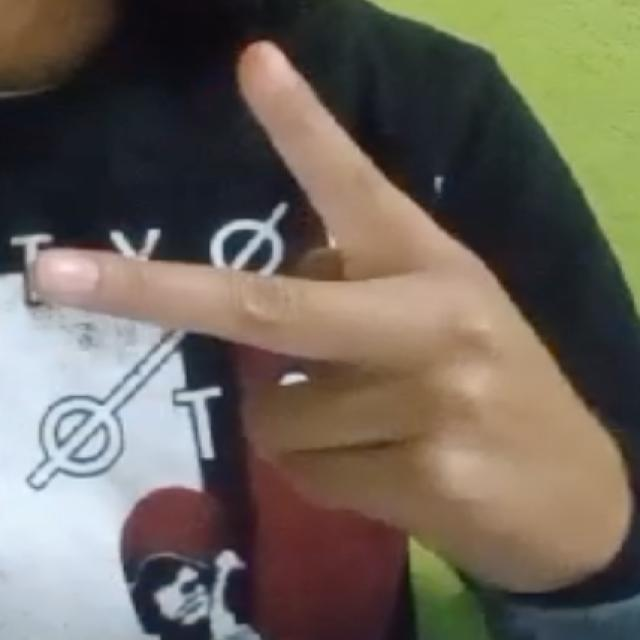K: (12, 30, 629, 596)
